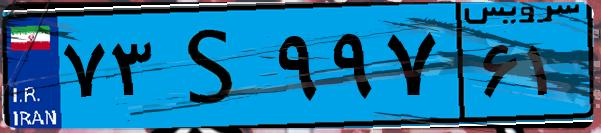1: (525, 38, 570, 115)
3: (110, 28, 158, 98)
6: (475, 38, 525, 113)
7: (385, 28, 445, 110), (57, 26, 110, 100)
9: (270, 28, 330, 110), (330, 28, 385, 110)
S: (158, 12, 270, 120)
